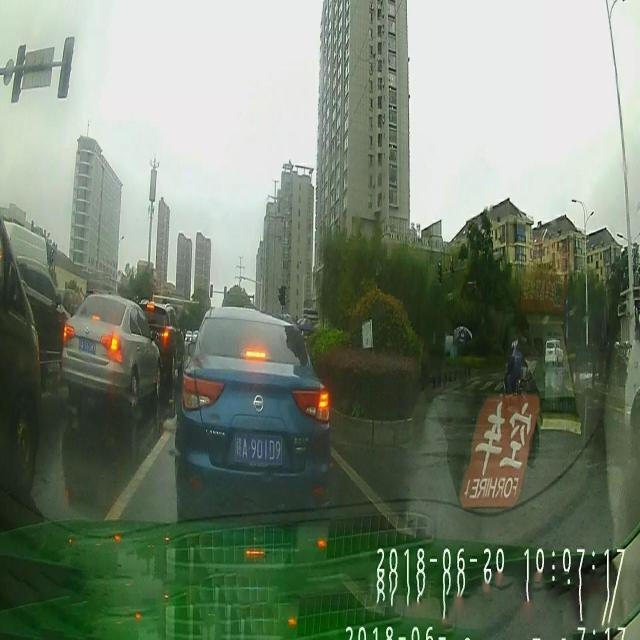car: (175, 304, 333, 515), (61, 280, 162, 410), (0, 209, 41, 498), (15, 252, 70, 372), (140, 296, 185, 379), (620, 287, 640, 440), (546, 341, 564, 368)
